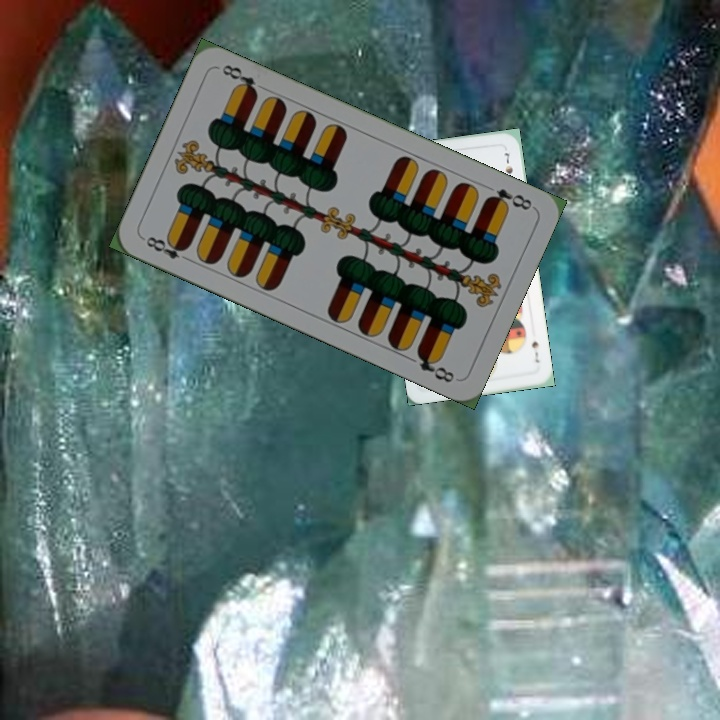E8: (139, 232, 195, 265), (481, 184, 535, 213)
S7: (528, 337, 542, 365)
